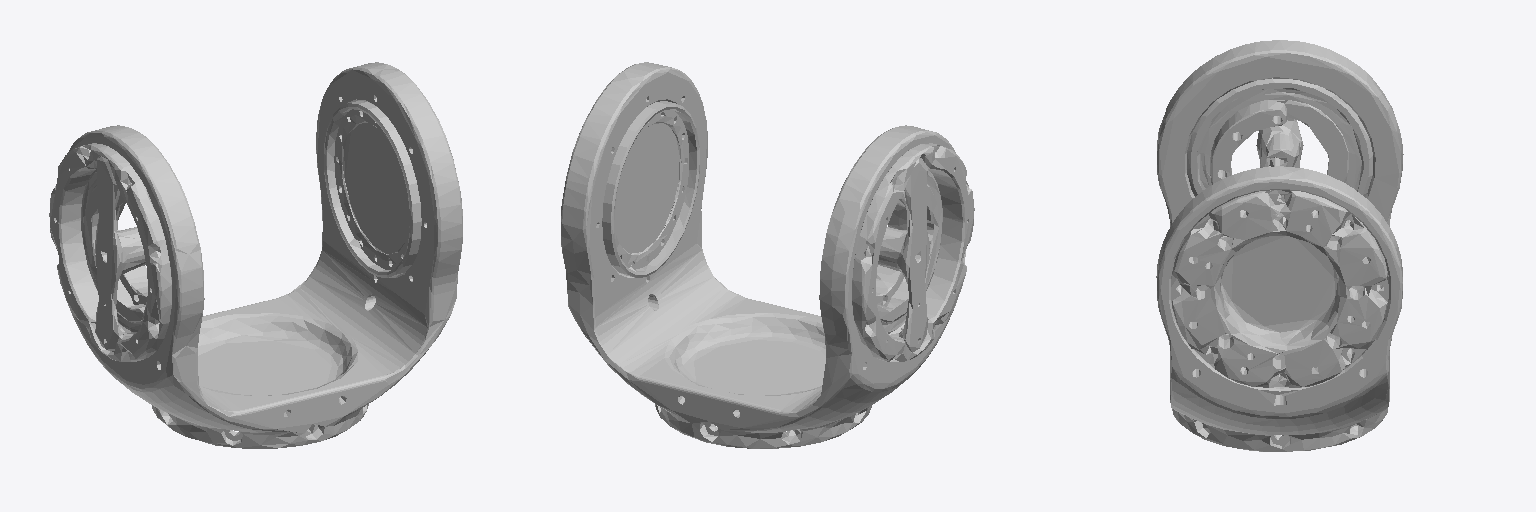
Rendered from shoulderPitchLeft.obj.
The picture shows the model from 3 angles: view 1: azimuth 30°, elevation 25°; view 2: azimuth 150°, elevation 25°; view 3: azimuth 270°, elevation 25°; orthographic projection.
Parts seen in each view (by area): view 1: shoulderPitchLeft; view 2: shoulderPitchLeft; view 3: shoulderPitchLeft.
Boxes of the visible parts, x1=… form: shoulderPitchLeft: x1=49, y1=62, x2=462, y2=448; shoulderPitchLeft: x1=561, y1=62, x2=974, y2=448; shoulderPitchLeft: x1=1156, y1=40, x2=1403, y2=451.
Size of the model in its own units: 0.0885 by 0.083 by 0.062.